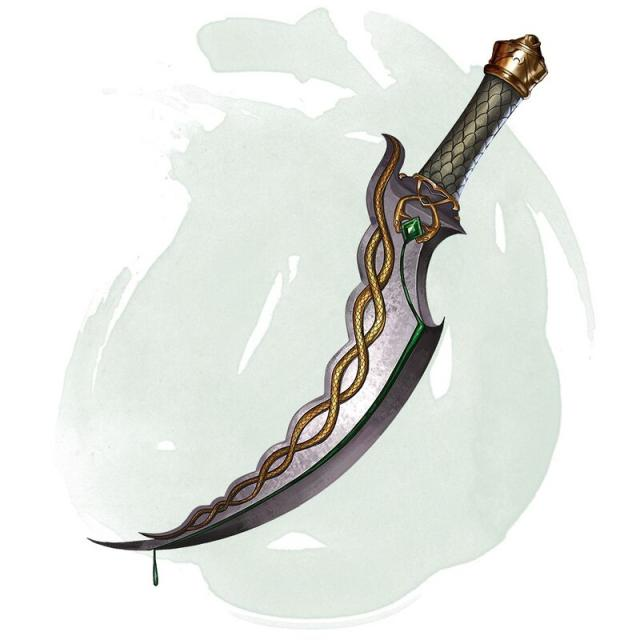Gun: (78, 19, 617, 630)
